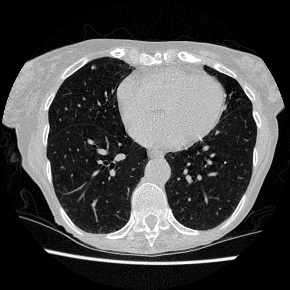nodule: (90, 65, 94, 69)
